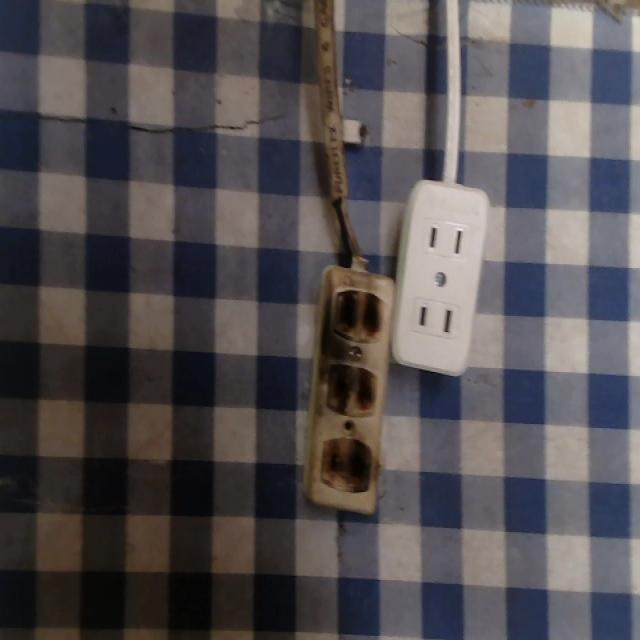-: (332, 281, 385, 344), (323, 356, 376, 416), (319, 434, 371, 486)
